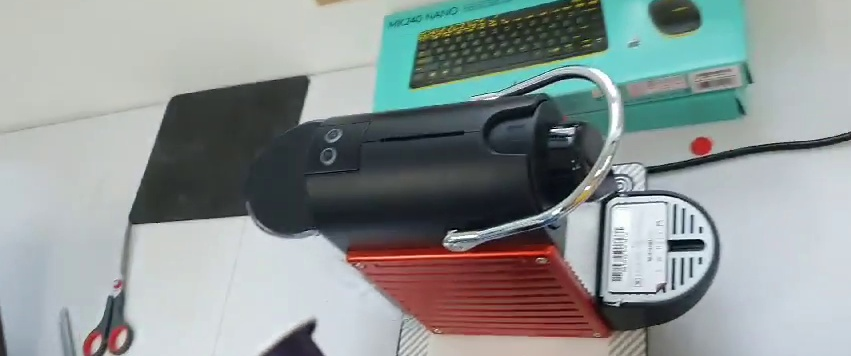capsule_2: (252, 315, 324, 356)
